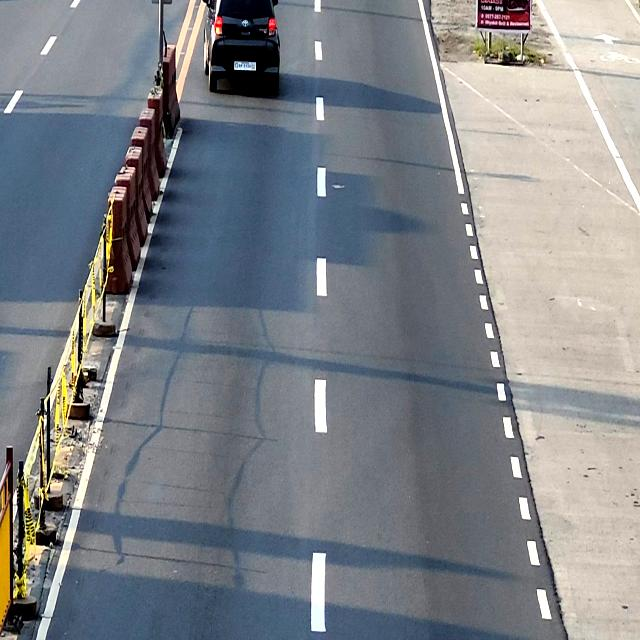Car: (202, 0, 279, 94)
License-Plate: (238, 61, 252, 70)
